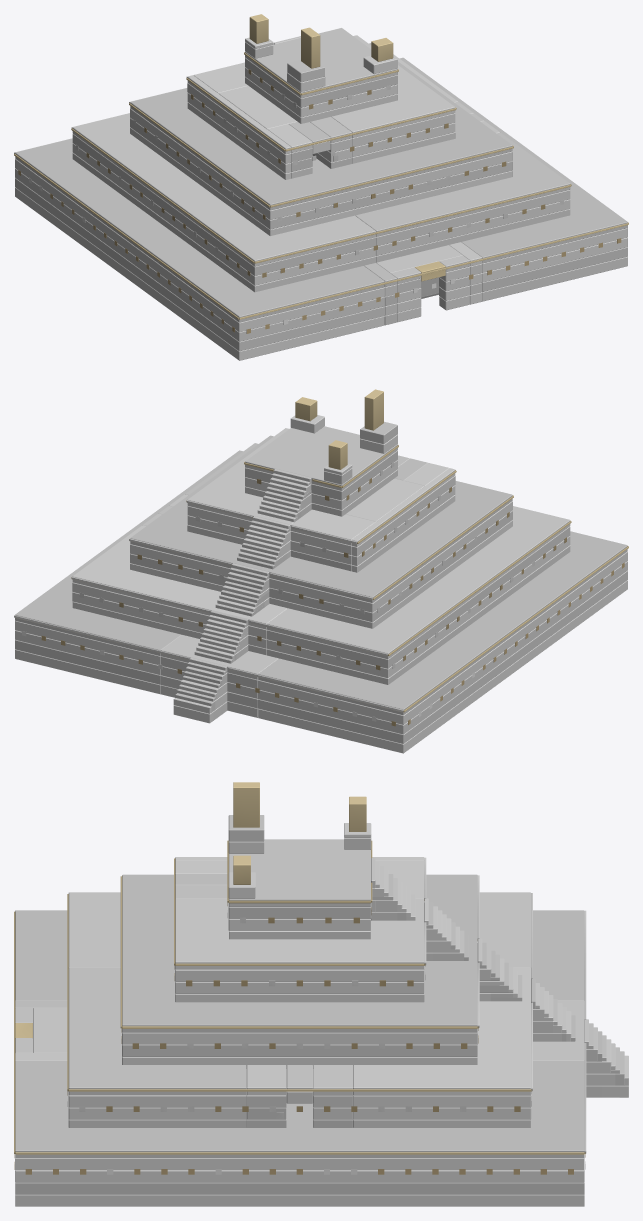
File: ziggurat.glb
3 views of the same model, one above another, from view 1: azimuth 30°, elevation 25°; view 2: azimuth 150°, elevation 25°; view 3: azimuth 270°, elevation 25° (orthographic). The views are drawn at different scales.
Visible parts, largest first — view 1: obsidian, gilt, lapis; view 2: obsidian, gilt, lapis; view 3: obsidian, gilt, lapis.
Part boxes in pixels (x1,y1,x2,y2): obsidian: (15,28,627,360); gilt: (14,14,628,333); lapis: (14,35,563,324); obsidian: (15,415,627,753); gilt: (41,389,628,726); lapis: (14,462,534,721); obsidian: (15,815,628,1206); gilt: (14,782,585,1174); lapis: (67,857,586,1174).
Size of the model in its own units: 64.3 by 35 by 69.15.
